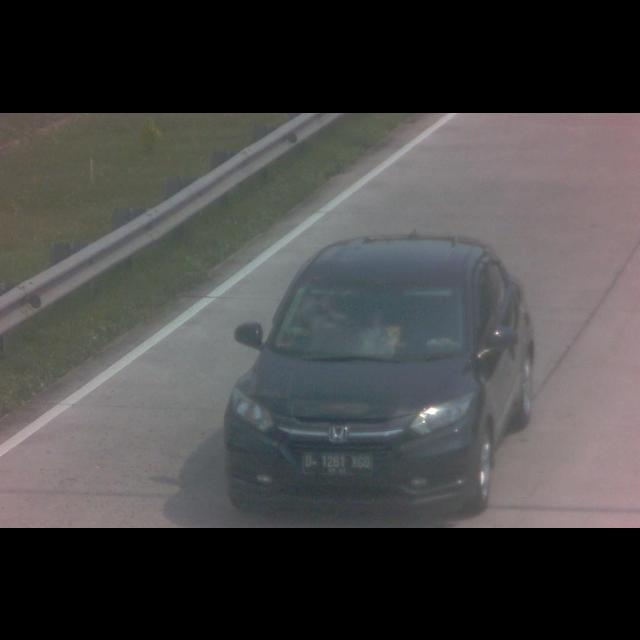plate: (301, 450, 373, 476)
